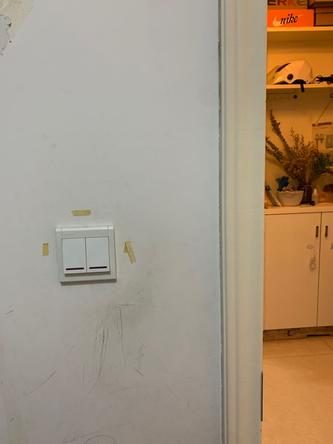switch: (82, 234, 111, 276), (59, 234, 87, 275)
